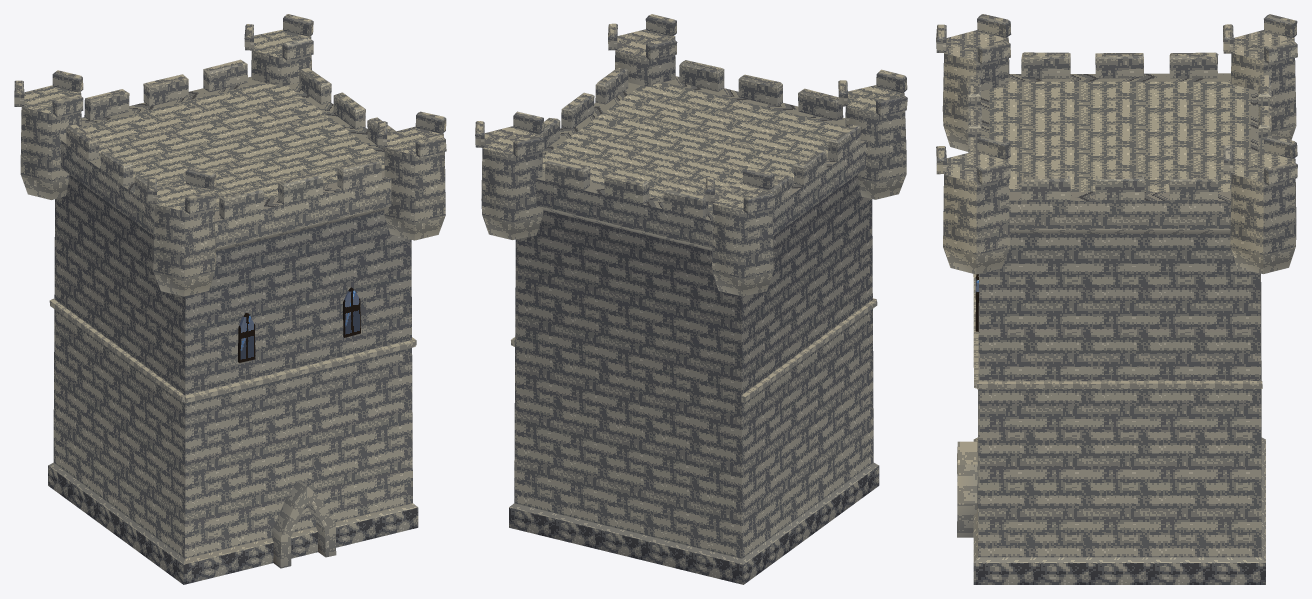
Rendered from cst.keep__crenellated.glb.
3 renders of one model, left to right at view 1: azimuth 30°, elevation 25°; view 2: azimuth 150°, elevation 25°; view 3: azimuth 270°, elevation 25°, orthographic. The views are drawn at different scales.
Visible parts, largest first — view 1: kit_walls, kit_top, kit_detail; view 2: kit_walls, kit_top, kit_detail; view 3: kit_walls, kit_top, kit_detail.
Boxes of the visible parts, <box> form: kit_walls: <box>48,174,418,584</box>; kit_top: <box>14,14,446,296</box>; kit_detail: <box>49,287,416,568</box>; kit_walls: <box>509,174,879,584</box>; kit_top: <box>475,14,907,296</box>; kit_detail: <box>511,298,877,402</box>; kit_walls: <box>973,233,1265,584</box>; kit_top: <box>936,14,1297,274</box>; kit_detail: <box>957,274,1262,537</box>.
Size of the model in its own units: 13.13 by 16.8 by 12.75.
Materials: 5 (5 with a texture image).
